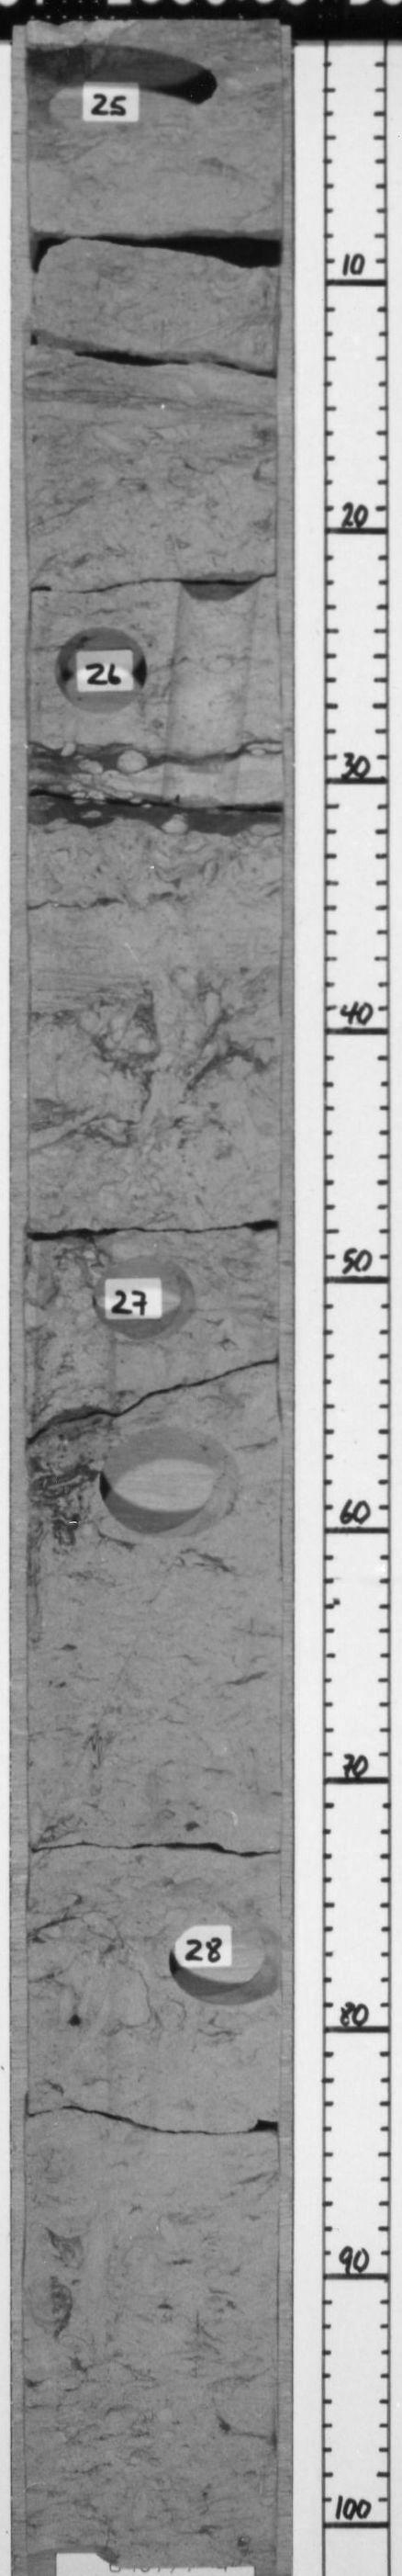hplug: (30, 41, 233, 138), (161, 1907, 276, 2012), (90, 1250, 210, 1350), (48, 614, 156, 723)
scal: (95, 1419, 244, 1544)
vplug: (159, 567, 263, 800)
